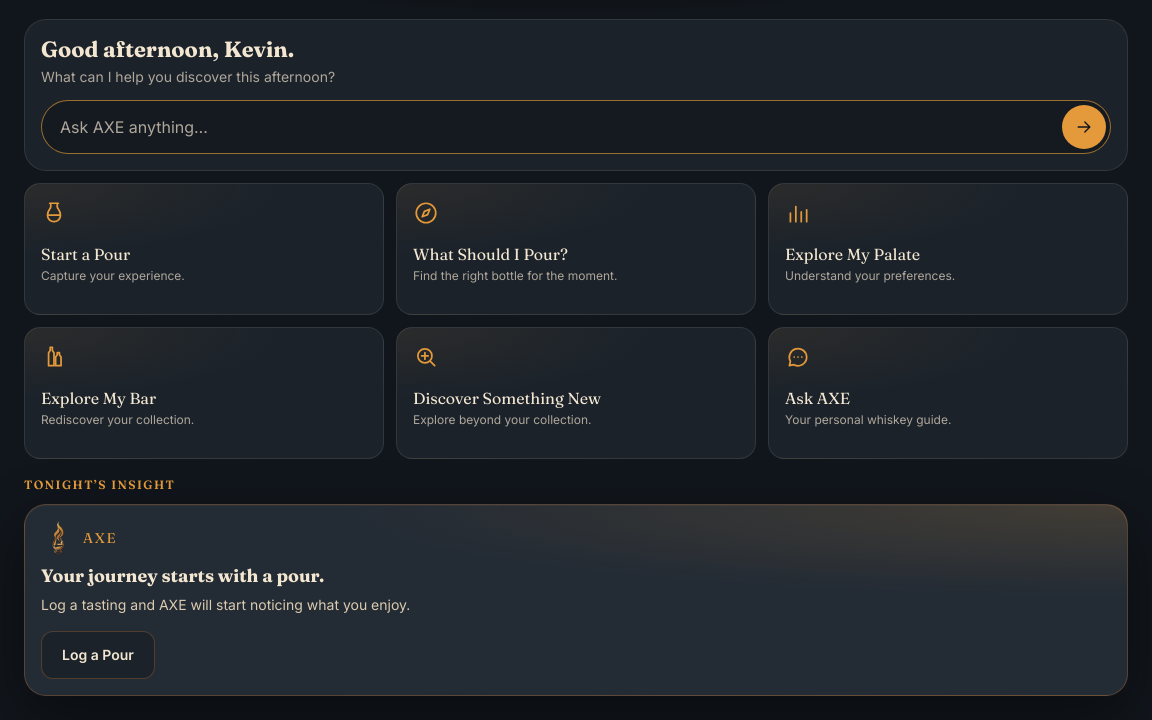
Test: AxeHubPage › still works with AI services unavailable: insight falls back, every card still opens
This screenshot has width=1152, height=720.
(page scrolled)
Check: the element named "AXE Insight" is shown, box [24,504,1128,696]
Check: the heading "Your journey starts with a pour." is shown, box [41,564,324,587]
Click the button "Start a Pour Capture your experience." at (86, 254), box [24,183,384,315]
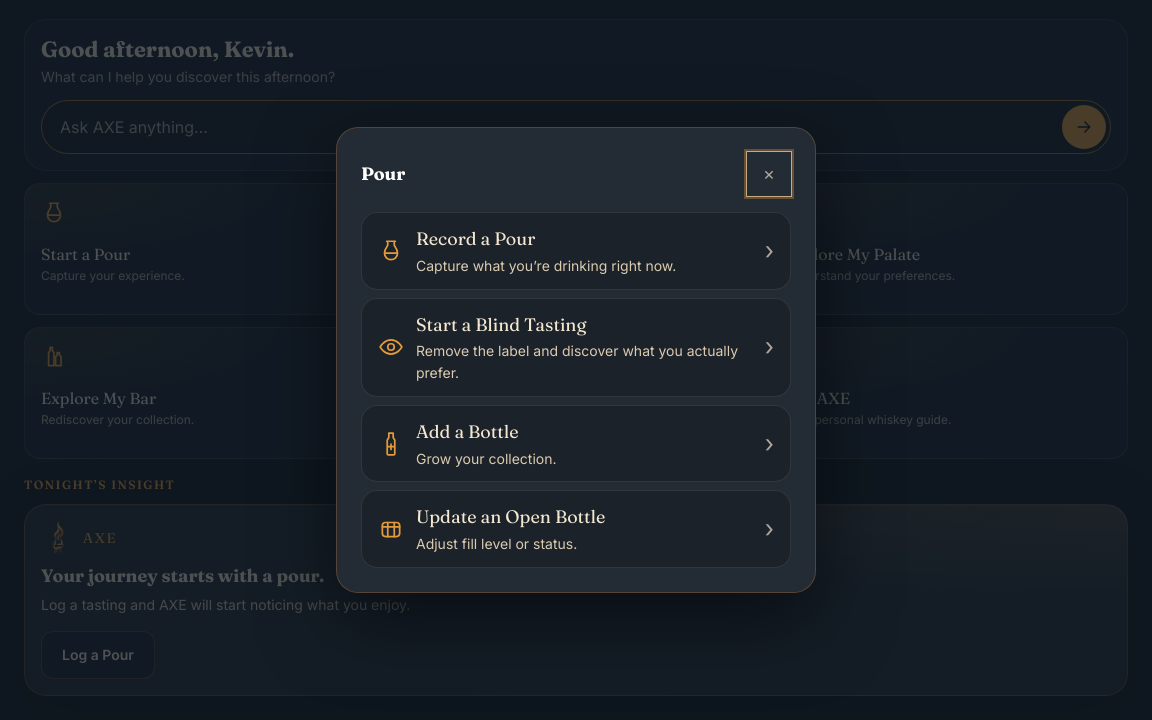
Check: the button "Record a Pour Capture what you’re drinking right now. ›" is shown, box [361,212,791,290]
